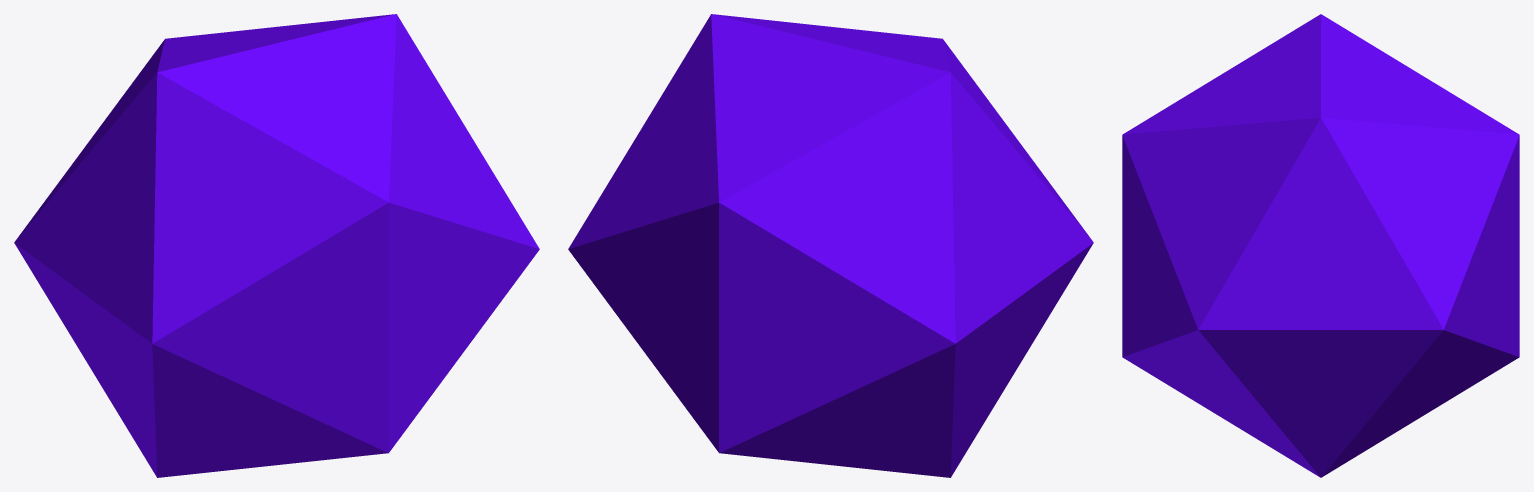
File: Platti_exp5.fbx
The picture shows the model from 3 angles, left to right: view 1: azimuth 30°, elevation 25°; view 2: azimuth 150°, elevation 25°; view 3: azimuth 270°, elevation 25°; orthographic projection. The views are drawn at different scales.
Visible parts, largest first — view 1: Platti; view 2: Platti; view 3: Platti.
Boxes of the visible parts, box(x1,y1,x2,y2) form: Platti: box(14, 14, 539, 477); Platti: box(568, 14, 1093, 477); Platti: box(1122, 14, 1519, 477).
Size of the model in its own units: 60 by 60 by 60.
